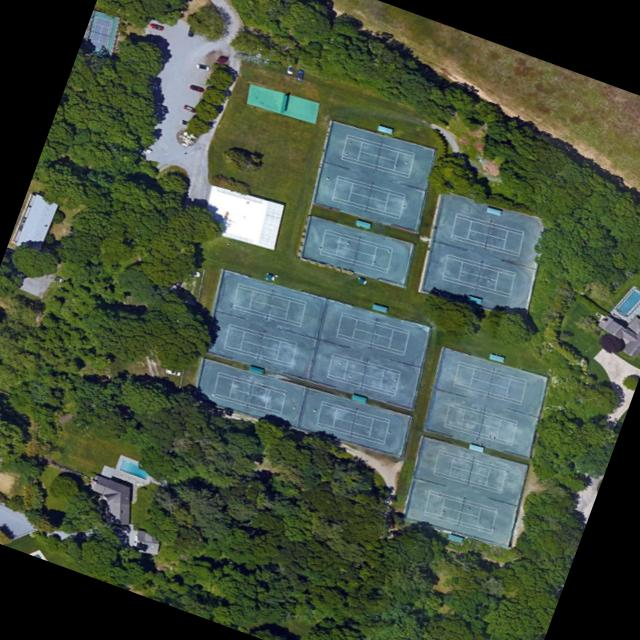small-vehicle: (284, 60, 295, 76), (182, 268, 199, 278), (148, 22, 164, 32), (182, 104, 197, 114), (188, 84, 202, 94), (164, 368, 179, 377), (194, 64, 209, 71), (296, 69, 303, 81)
